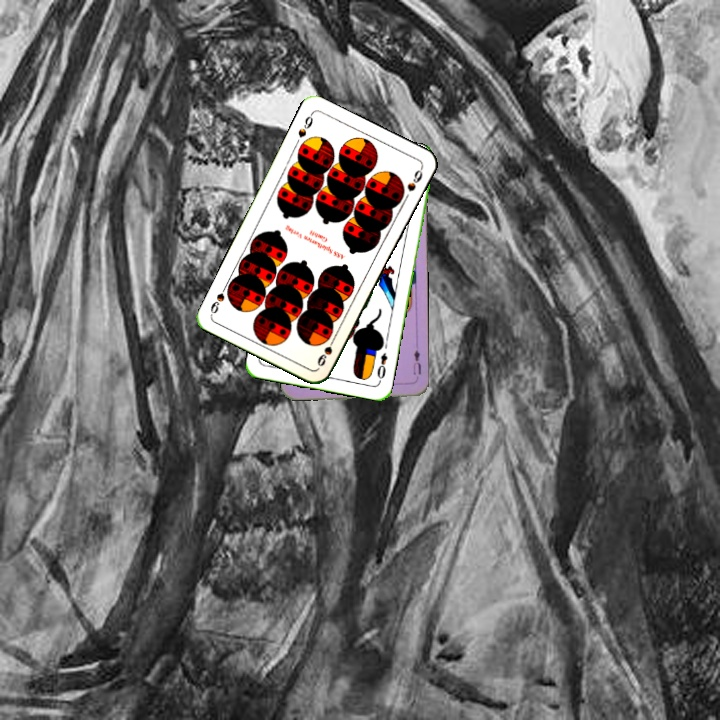EO: (373, 349, 390, 385)
EU: (409, 346, 423, 383)
S9: (313, 331, 339, 369), (294, 109, 315, 140)
